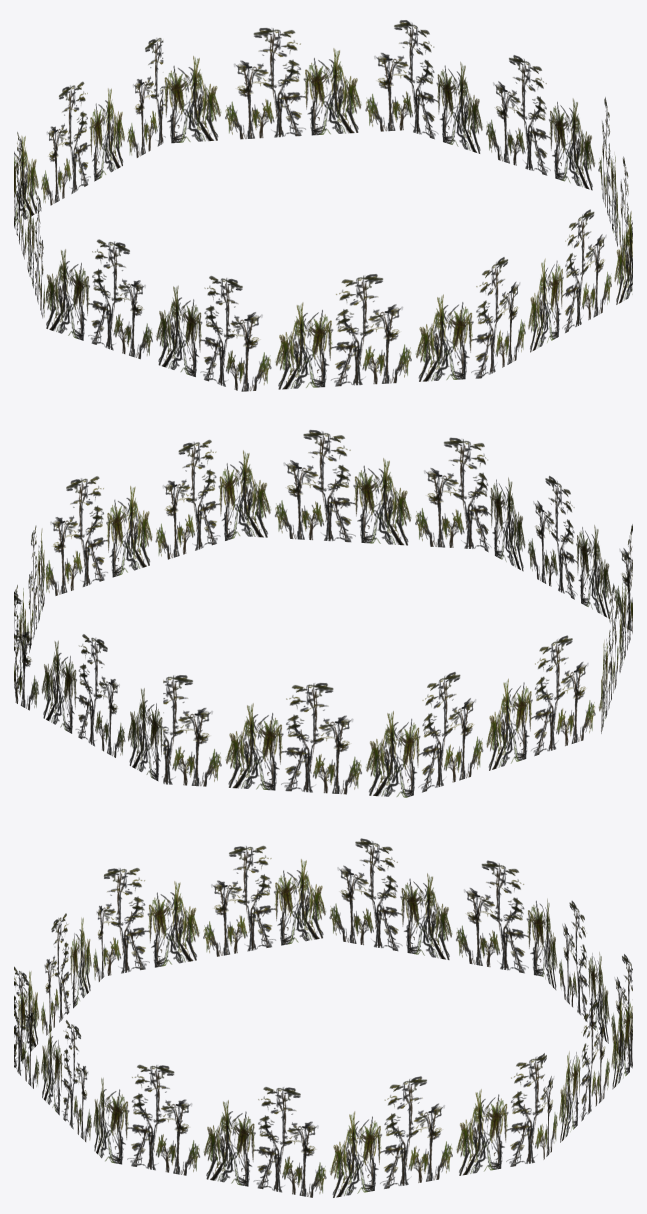
Rendered from tree_ring.glb.
3 renders of one model, top to bottom at view 1: azimuth 30°, elevation 25°; view 2: azimuth 150°, elevation 25°; view 3: azimuth 270°, elevation 25°, orthographic. The views are drawn at different scales.
Parts seen in each view (by area): view 1: Cylinder; view 2: Cylinder; view 3: Cylinder.
Part boxes in pixels (x1,y1,x2,y2): Cylinder: (14,20,632,391); Cylinder: (14,430,632,797); Cylinder: (14,838,632,1197).
Bounding box in the file's own units: 10 × 2 × 10.
1 material, 1 textured.
